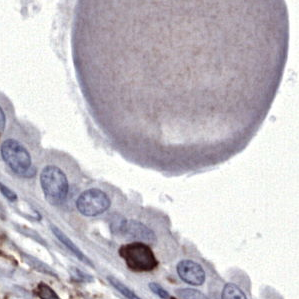Lymphocyte: (120, 241, 163, 274)
